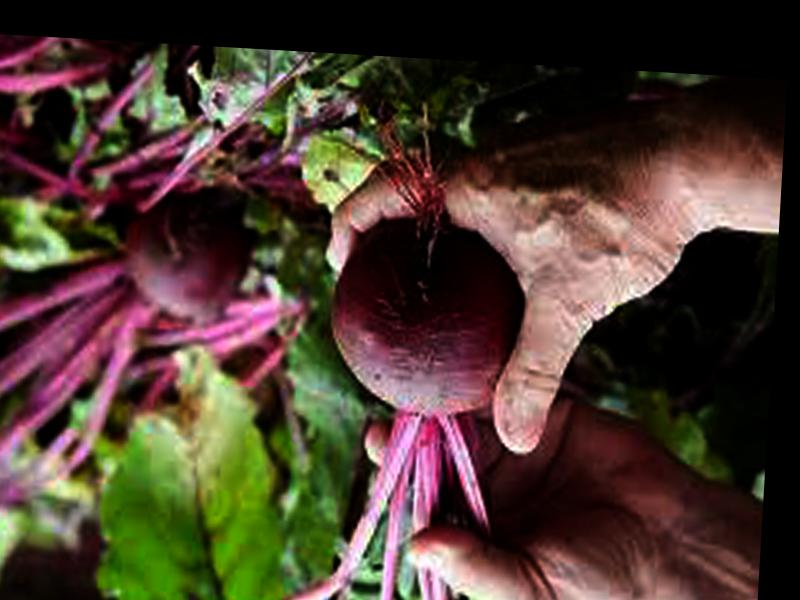Beet: (207, 207, 532, 600)
